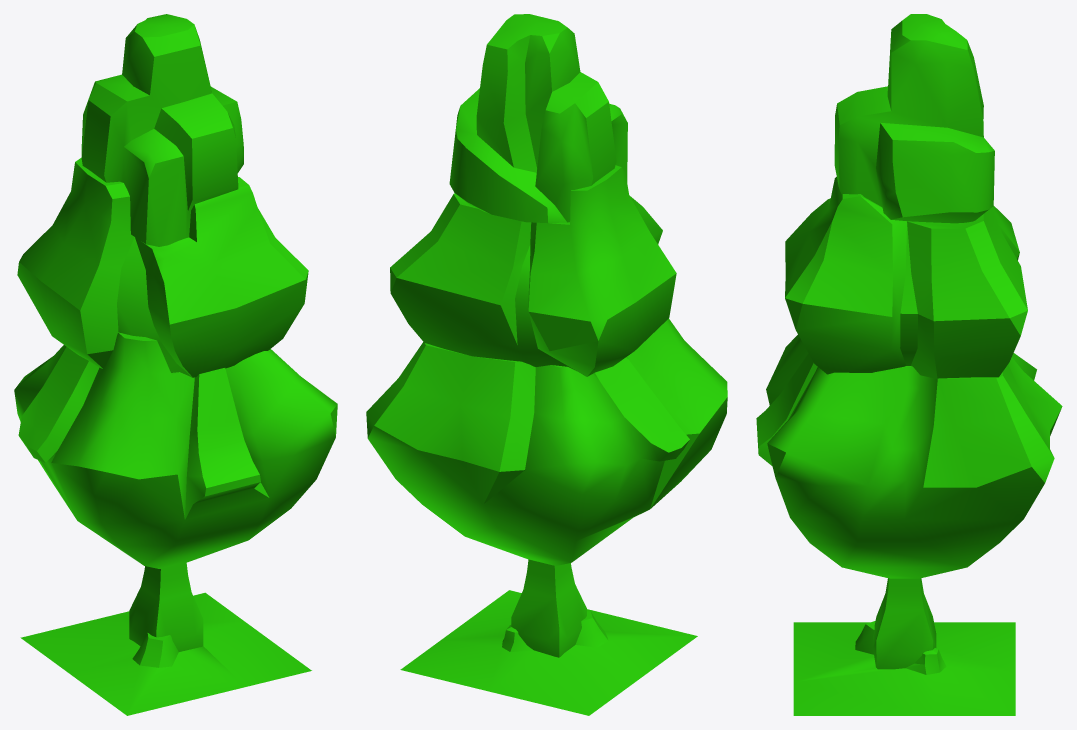
File: FOL_Foliage_04.FBX
3 views of the same model, side by side, from view 1: azimuth 30°, elevation 25°; view 2: azimuth 150°, elevation 25°; view 3: azimuth 270°, elevation 25° (orthographic). The views are drawn at different scales.
Parts seen in each view (by area): view 1: FOL_Foliage_04; view 2: FOL_Foliage_04; view 3: FOL_Foliage_04.
Part boxes in pixels (x1,y1,x2,y2): FOL_Foliage_04: (14,14,337,715); FOL_Foliage_04: (366,14,727,715); FOL_Foliage_04: (756,14,1062,715).
Bounding box in the file's own units: 8.19 × 19.3 × 8.27.
